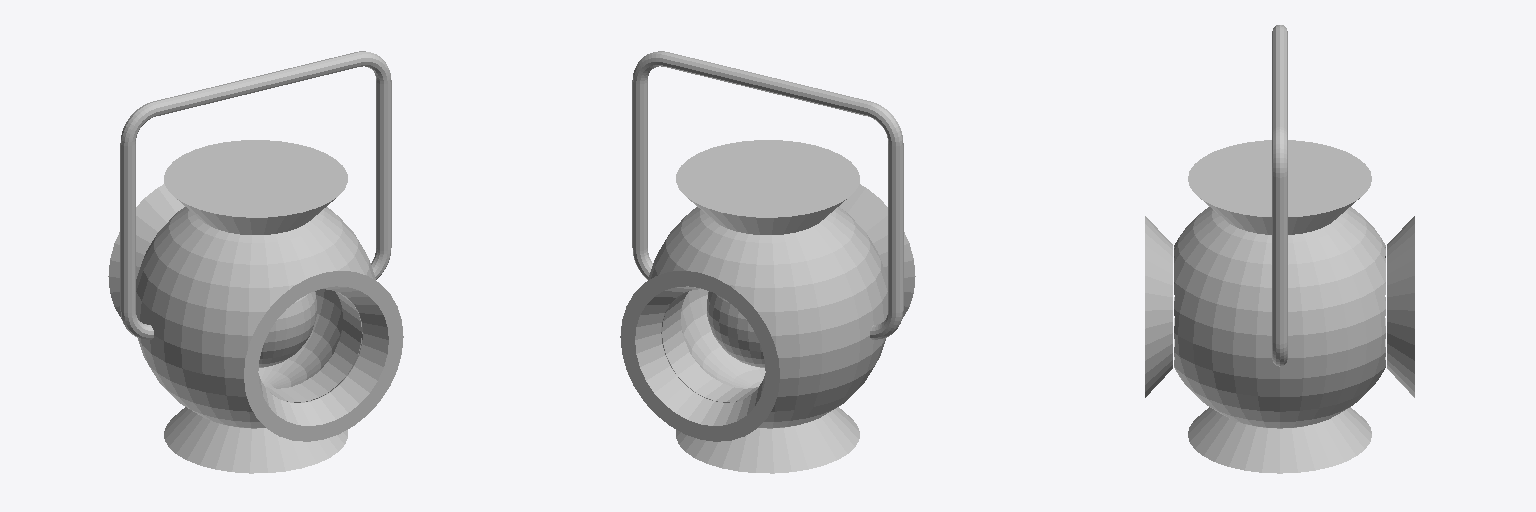
Rendered from lantern.obj.
3 renders of one model, left to right at view 1: azimuth 30°, elevation 25°; view 2: azimuth 150°, elevation 25°; view 3: azimuth 270°, elevation 25°, orthographic.
Visible parts, largest first — view 1: Cone; view 2: Cone; view 3: Cone.
Part boxes in pixels (bbox=[...]): Cone: bbox=[108, 51, 403, 473]; Cone: bbox=[620, 51, 915, 473]; Cone: bbox=[1145, 25, 1414, 473].
Size of the model in its own units: 0.8417 by 1.07 by 0.7333.